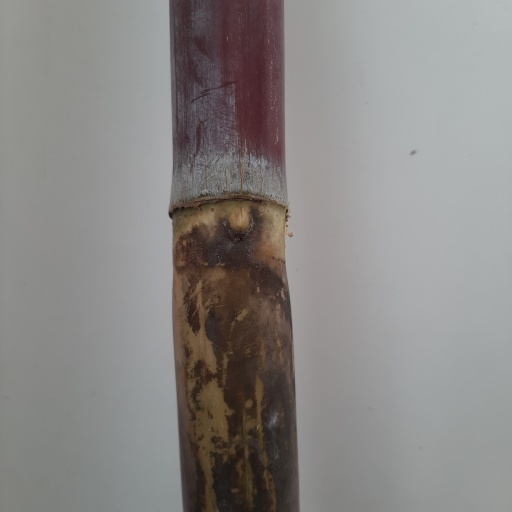Bud: (225, 203, 253, 239)
